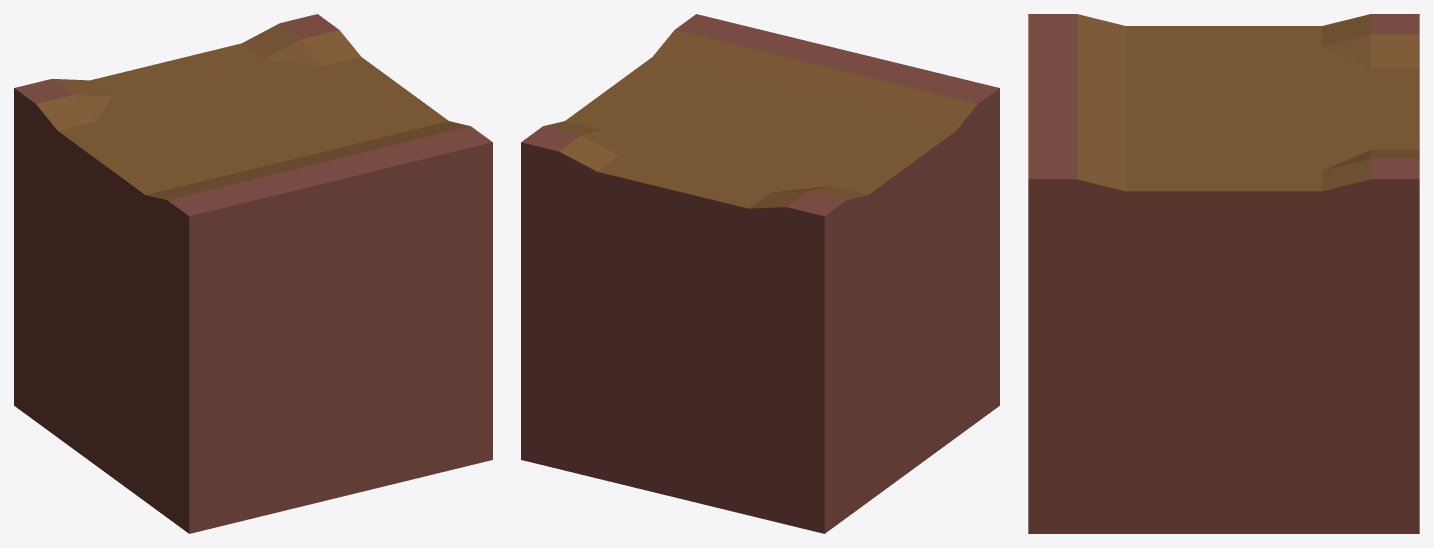
The model's file is Dirt_Path_T_Junction.glb.
3 renders of one model, left to right at view 1: azimuth 30°, elevation 25°; view 2: azimuth 150°, elevation 25°; view 3: azimuth 270°, elevation 25°, orthographic. The views are drawn at different scales.
Parts seen in each view (by area): view 1: Dirt Path T Junction; view 2: Dirt Path T Junction; view 3: Dirt Path T Junction.
Part boxes in pixels (box(x1,y1,x2,y2)): Dirt Path T Junction: box(14, 14, 492, 533); Dirt Path T Junction: box(521, 14, 999, 533); Dirt Path T Junction: box(1028, 14, 1419, 533).
Bounding box in the file's own units: 2 × 2 × 2.
Materials: 1 (1 with a texture image).
